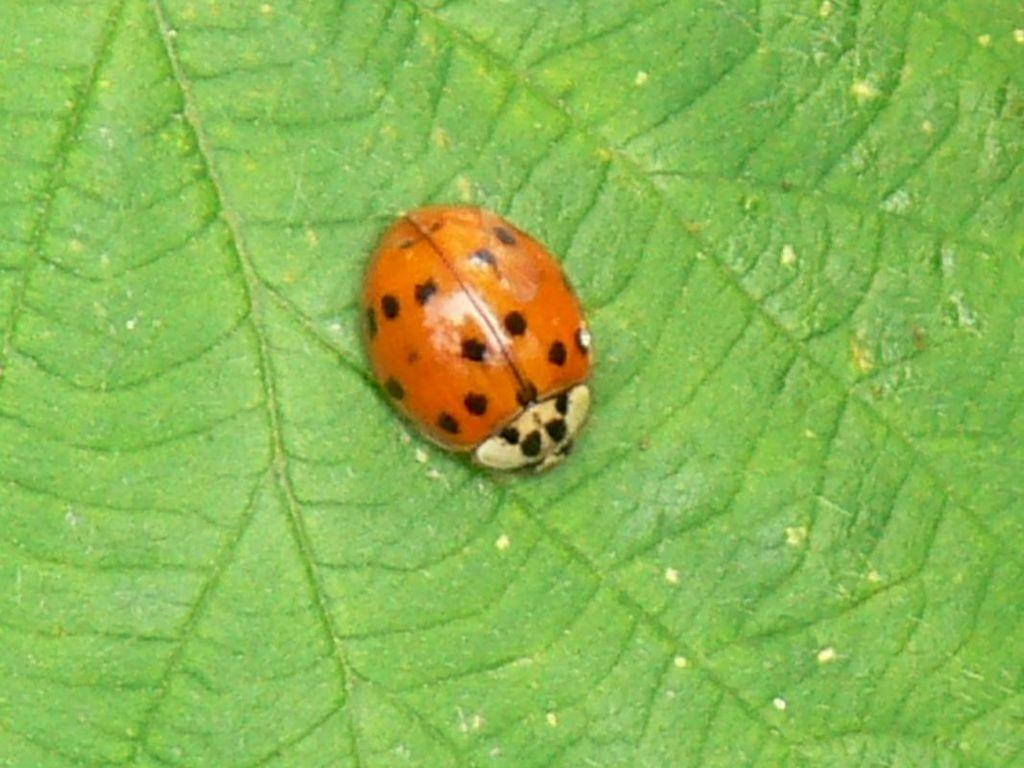ladybug: (359, 201, 597, 481)
